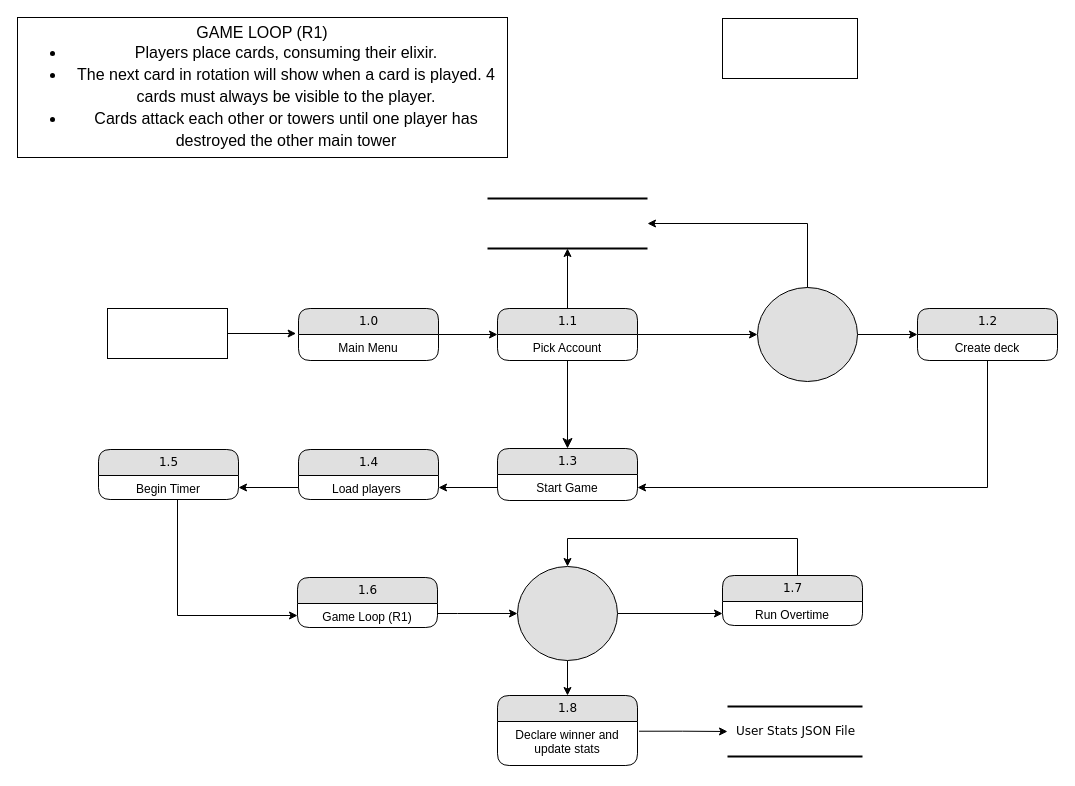
This 1075x786 diagram has some shape labels left out. The centre of each missing label's shape, as x and y in pixels:
"Amar Trivedi Jake Holmes Christopher Gugelmeier Subhan Mirpour" belongs at point (790, 48).
"Check Tower status when timer hits 0/or if tower gets destoryed" belongs at point (567, 613).
"Create account if doesn't exist/else proceed" belongs at point (807, 334).
"Launch game" belongs at point (167, 333).
"User Accounts JSON File" belongs at point (567, 223).
